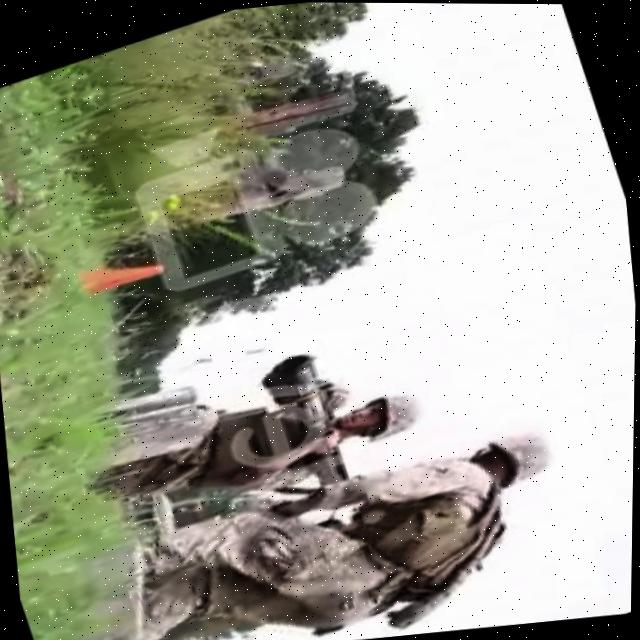rocket: (258, 343, 368, 498)
